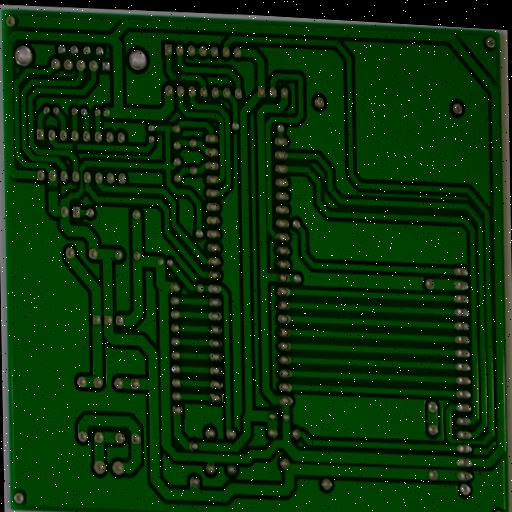open_circuit: (46, 183, 60, 197), (68, 141, 82, 153), (174, 72, 184, 83)
